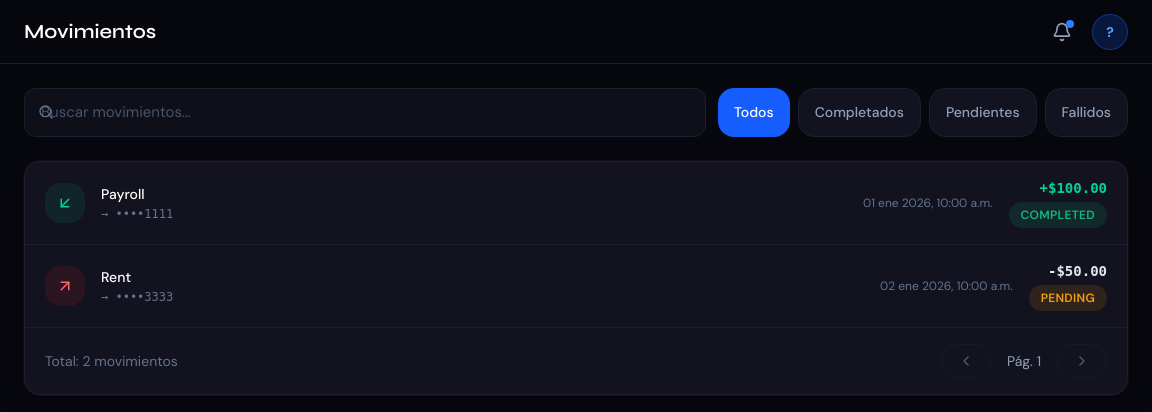
TransactionsPage › filters by search text matching the description
The width and height of the screenshot is (1152, 412).
Check: the text "Payroll" is shown, box left=101, top=184, right=145, bottom=202
Type "rent" into the field with placeholder "Buscar movimientos…" at (365,112), box left=24, top=88, right=706, bottom=136
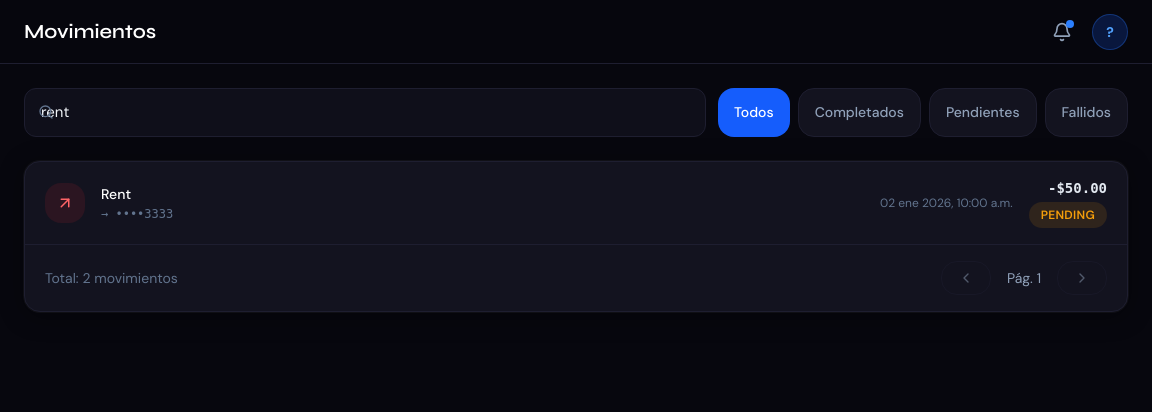
Check: the text "Rent" is shown, box left=101, top=184, right=131, bottom=202
Check: the text "Payroll" is gone
